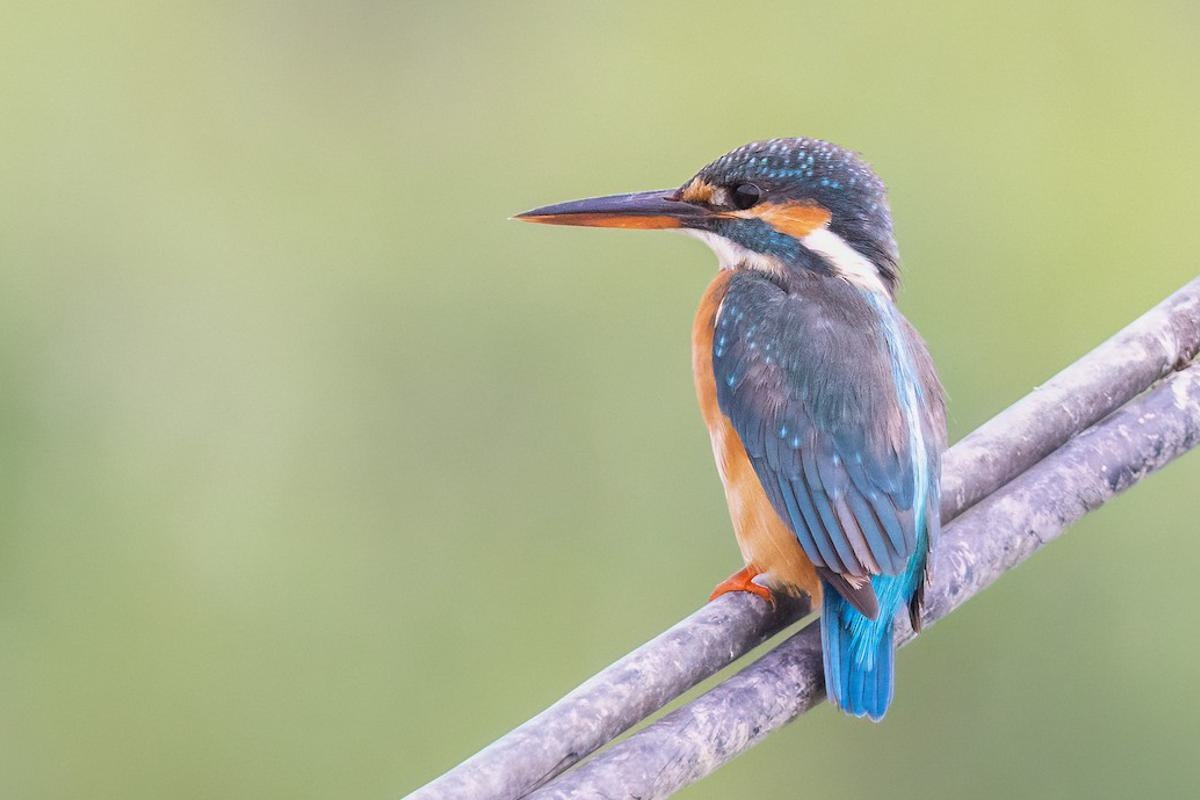kingfisher: (525, 123, 986, 690)
